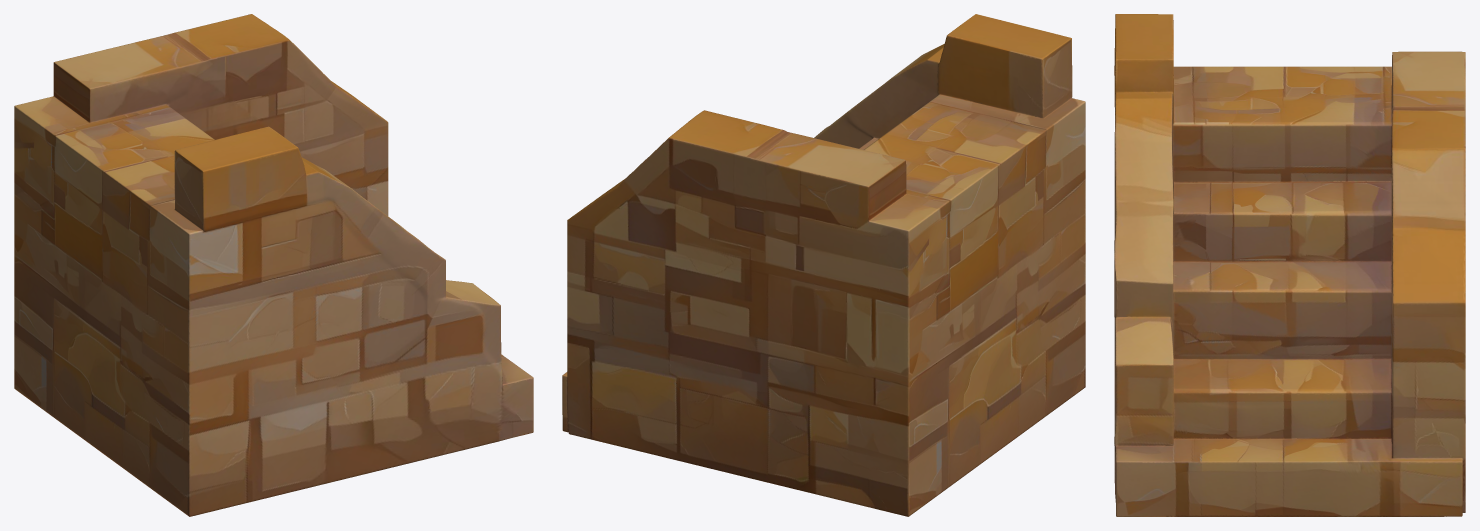
Rendered from stairs_stone.glb.
3 views of the same model, side by side, from view 1: azimuth 30°, elevation 25°; view 2: azimuth 150°, elevation 25°; view 3: azimuth 270°, elevation 25° (orthographic).
Parts seen in each view (by area): view 1: tripo_node_c0f5b52f-0f23-49a7-a4d4-3253b781ce6a; view 2: tripo_node_c0f5b52f-0f23-49a7-a4d4-3253b781ce6a; view 3: tripo_node_c0f5b52f-0f23-49a7-a4d4-3253b781ce6a.
Boxes of the visible parts, bbox=[...] form: tripo_node_c0f5b52f-0f23-49a7-a4d4-3253b781ce6a: bbox=[14, 14, 533, 516]; tripo_node_c0f5b52f-0f23-49a7-a4d4-3253b781ce6a: bbox=[562, 14, 1085, 516]; tripo_node_c0f5b52f-0f23-49a7-a4d4-3253b781ce6a: bbox=[1114, 14, 1465, 516].
Size of the model in its own units: 1 by 0.9511 by 0.8837.
Materials: 1 (1 with a texture image).
